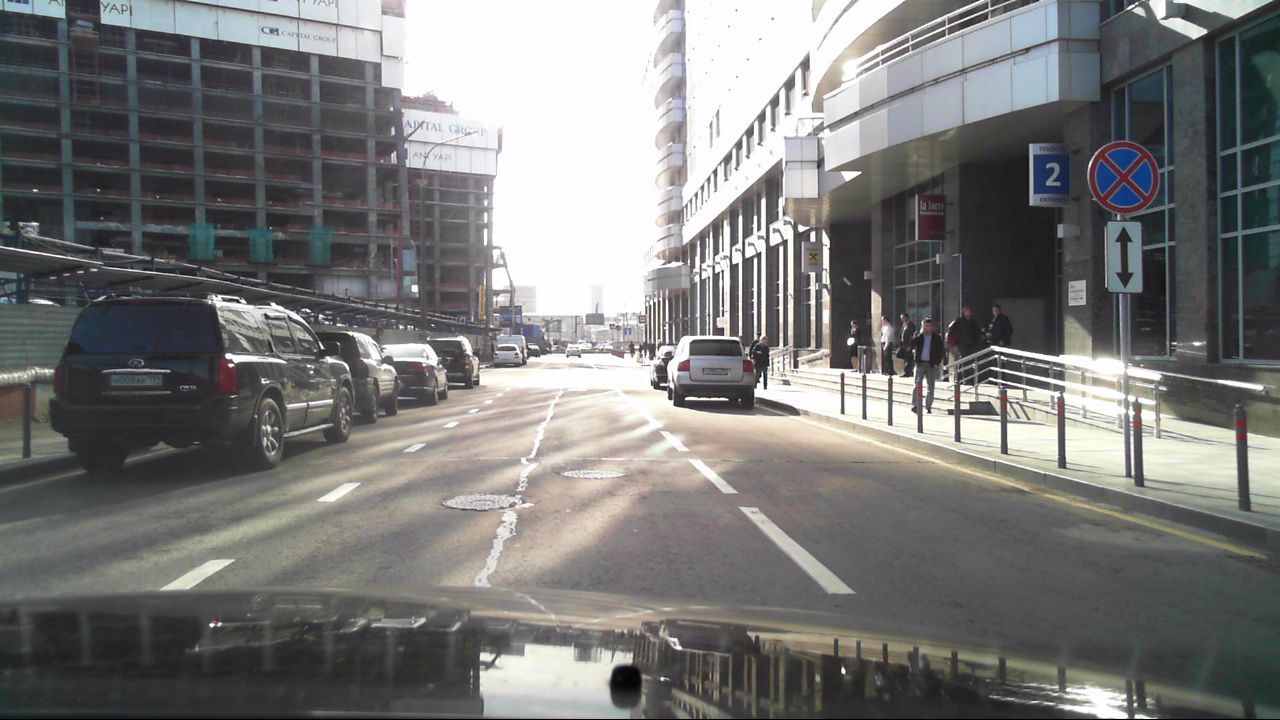No Parking: (1086, 138, 1164, 217)
